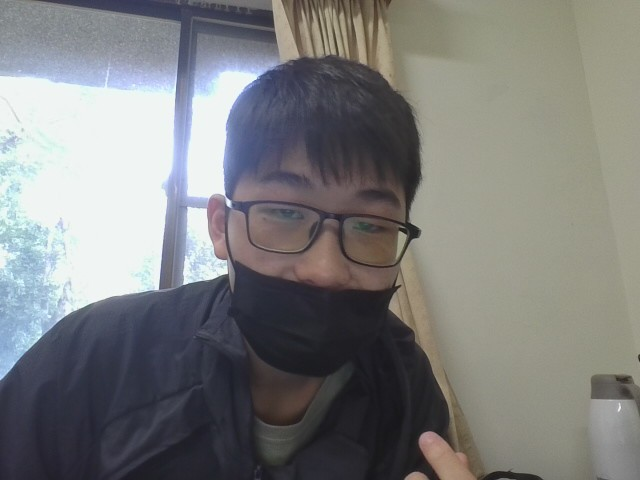No_Gloves: (369, 427, 501, 480)
No_Helmet: (212, 50, 426, 301)
person: (0, 40, 584, 480)
